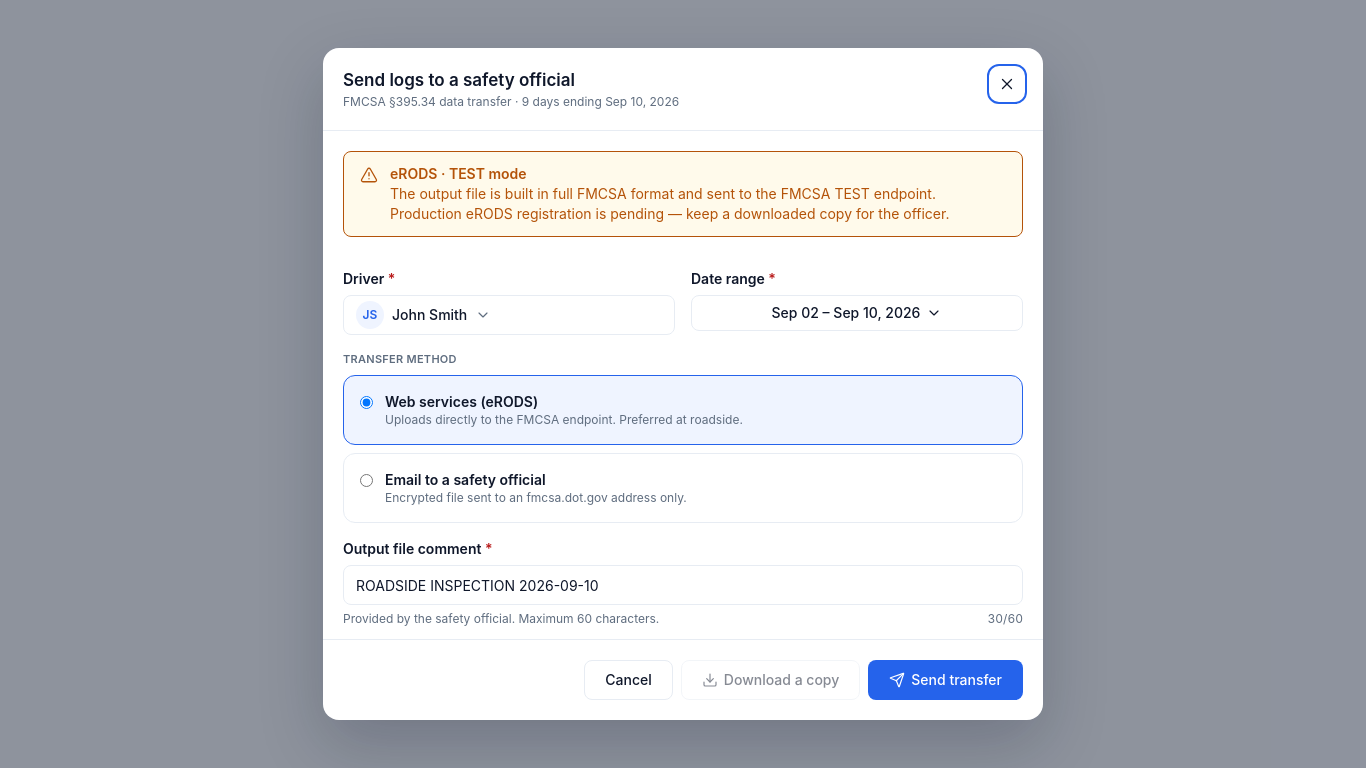
Scenario: 11.14 Send logs to a safety official › never sends a range longer than 8 days
The image size is (1366, 768).
Click the button "Send transfer" at (946, 680), box 868,660 -> 1023,700
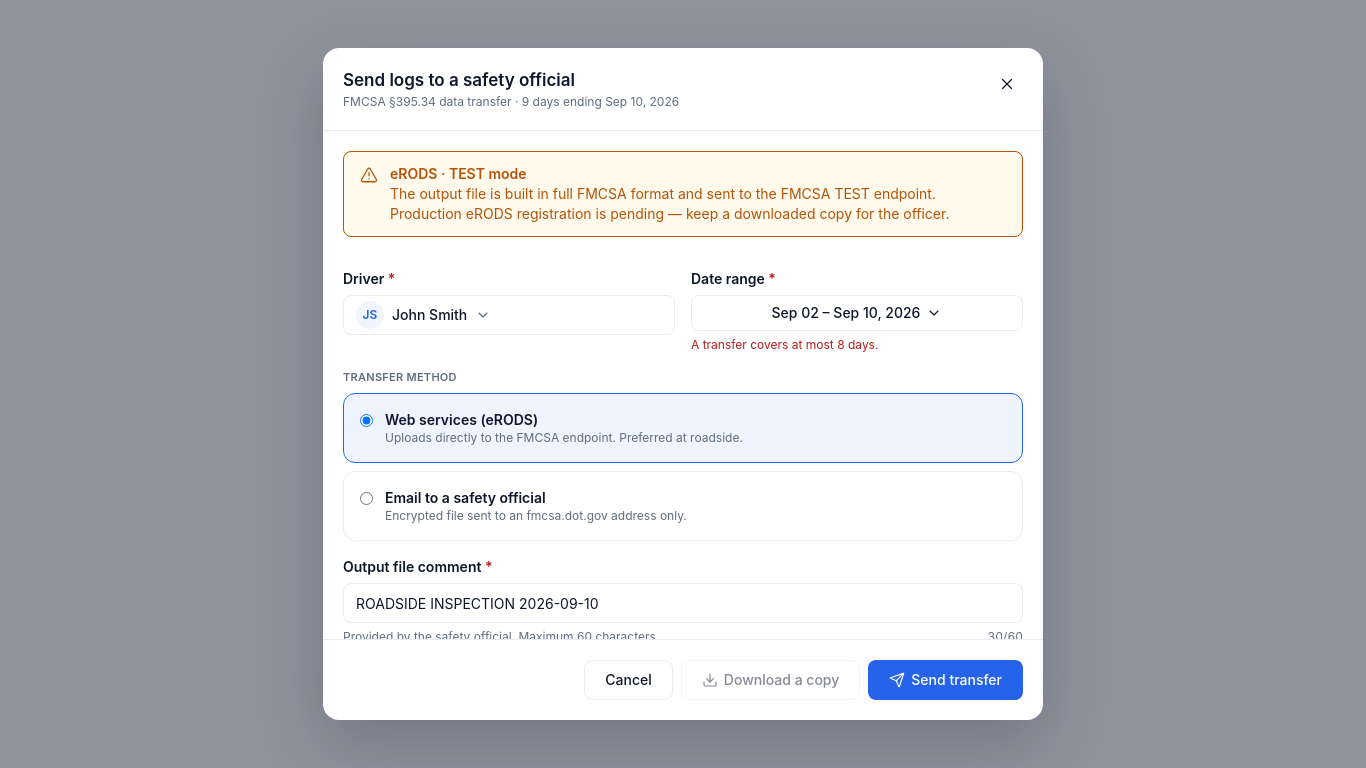
Check: the text "A transfer covers at most 8 days." is shown, box 691,337 -> 878,352
